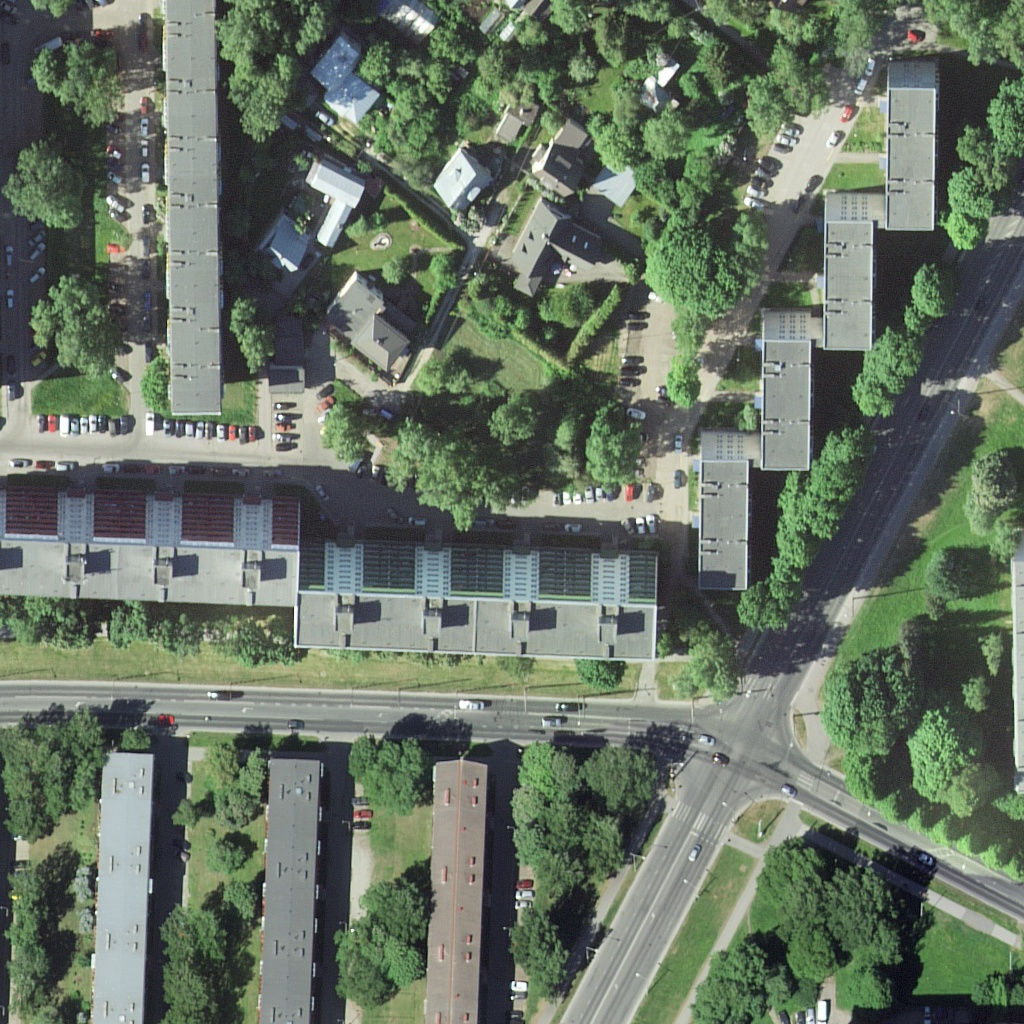building: (292, 544, 667, 662), (1, 488, 311, 606), (161, 1, 228, 417), (88, 748, 152, 1024), (425, 757, 484, 1024), (262, 758, 319, 1024), (884, 59, 945, 233), (760, 299, 817, 478), (821, 188, 877, 359), (324, 272, 411, 372), (700, 425, 751, 593), (511, 208, 601, 293), (307, 46, 391, 136), (303, 166, 364, 248), (528, 126, 591, 203), (437, 150, 495, 218), (258, 219, 308, 283)
